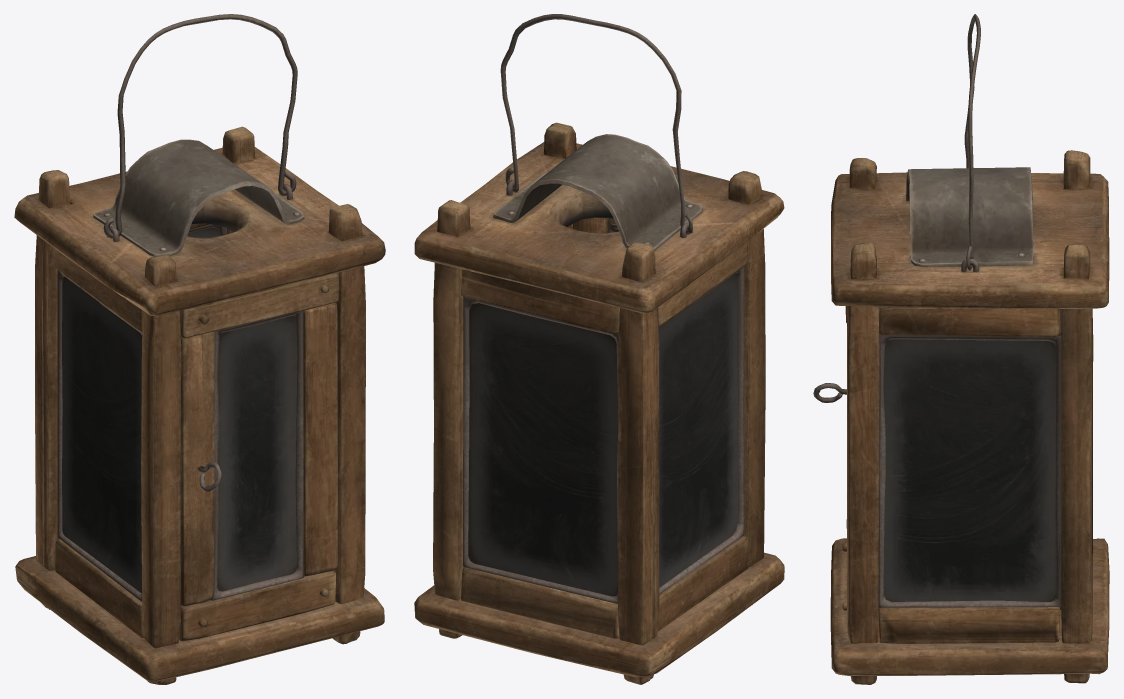
File: wooden_lantern_01.glb
The picture shows the model from 3 angles, left to right: view 1: azimuth 30°, elevation 25°; view 2: azimuth 150°, elevation 25°; view 3: azimuth 270°, elevation 25°; orthographic projection.
Parts seen in each view (by area): view 1: wooden_lantern_01, wooden_lantern_01_door, wooden_lantern_01_handle; view 2: wooden_lantern_01, wooden_lantern_01_handle, wooden_lantern_01_door; view 3: wooden_lantern_01, wooden_lantern_01_handle, wooden_lantern_01_door.
Part boxes in pixels (x1,y1,x2,y2): wooden_lantern_01: (14, 126, 385, 684); wooden_lantern_01_door: (179, 272, 339, 641); wooden_lantern_01_handle: (103, 14, 297, 238); wooden_lantern_01: (414, 122, 784, 684); wooden_lantern_01_handle: (500, 14, 692, 234); wooden_lantern_01_door: (573, 217, 618, 233); wooden_lantern_01: (830, 150, 1109, 684); wooden_lantern_01_handle: (964, 14, 980, 270); wooden_lantern_01_door: (813, 306, 847, 610).
Bounding box in the file's own units: 0.2211 × 0.5301 × 0.2347.
2 materials, 2 textured.
